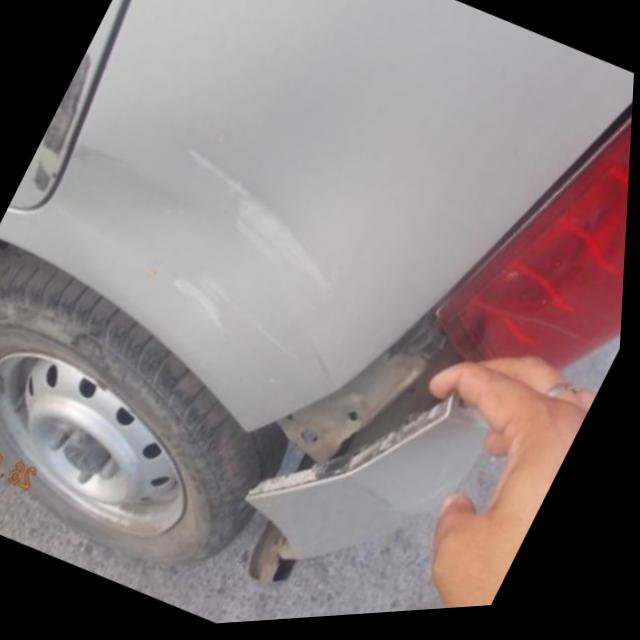dent: (185, 136, 343, 301), (170, 270, 310, 370)
dislocated part: (248, 321, 464, 503)
